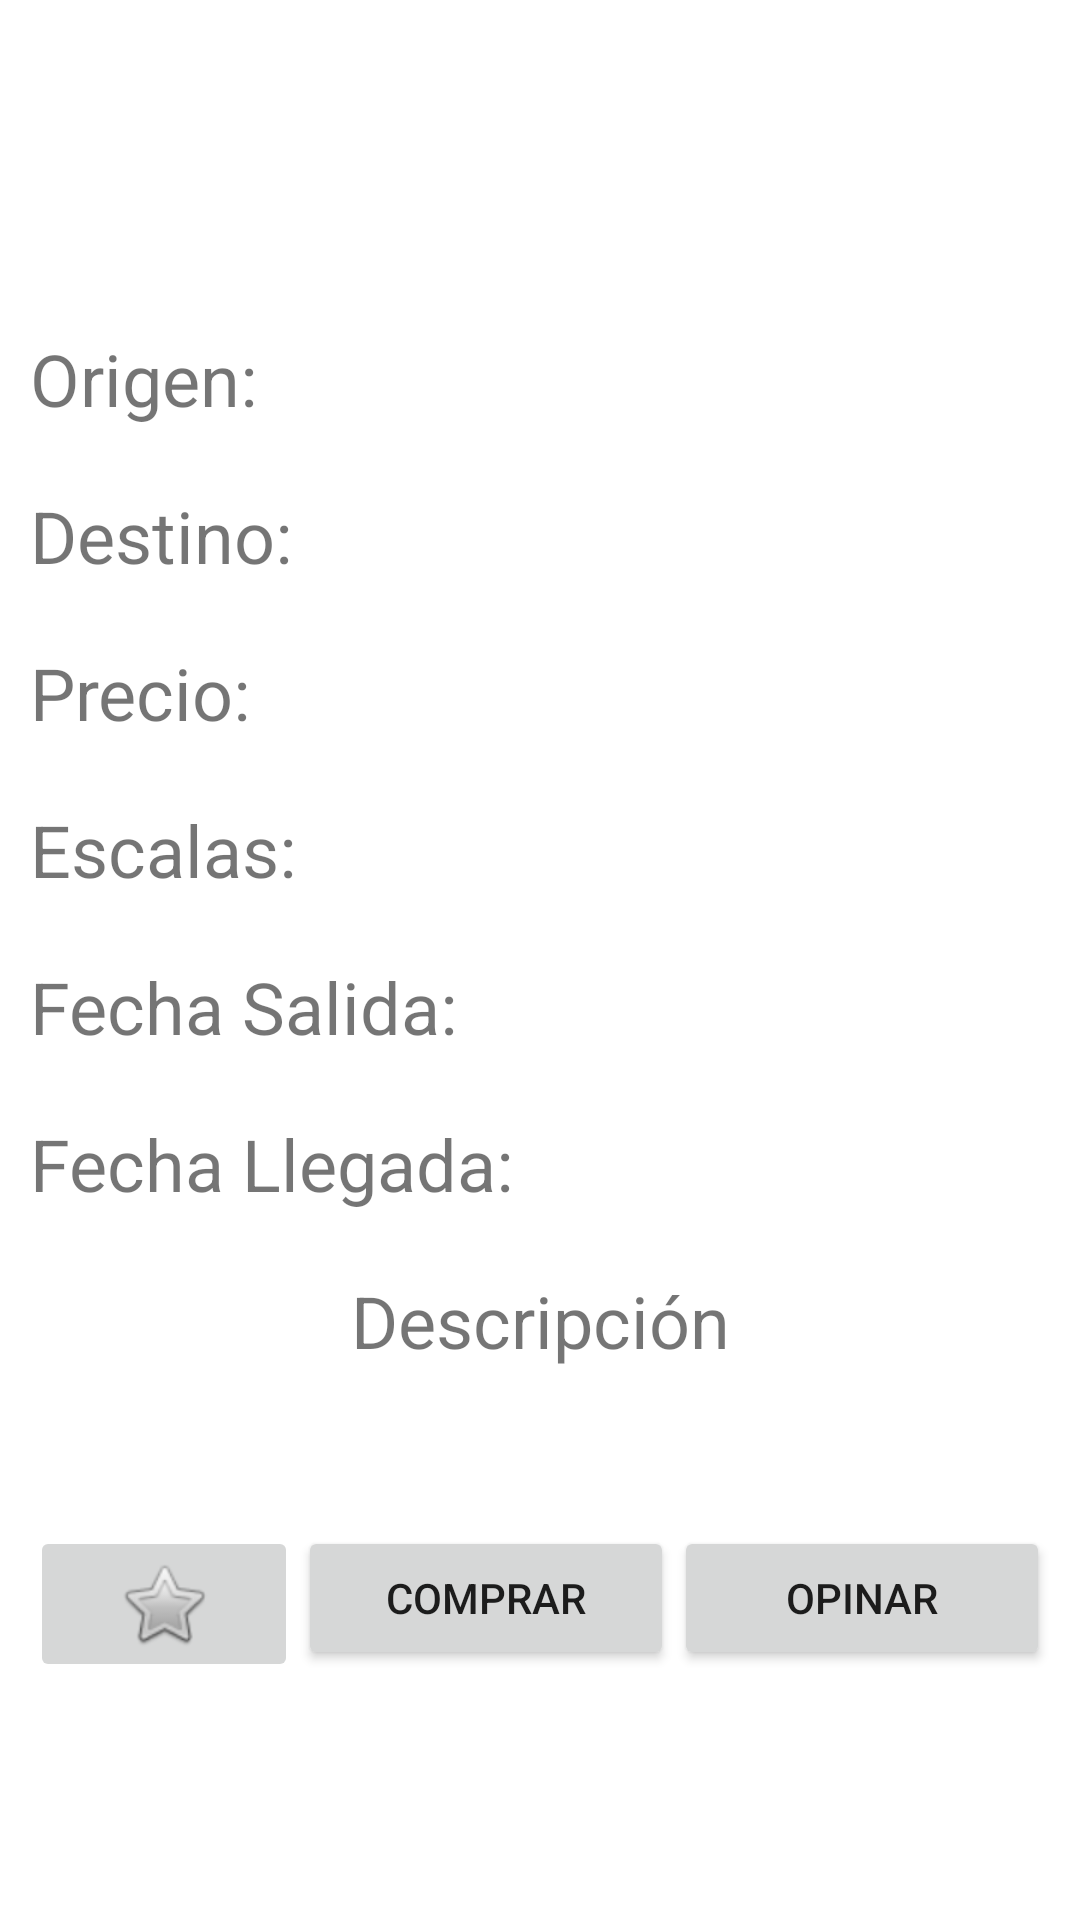

Locate icon controls on the screen. Image size 1080px×1920px, boxes as [x1,y1,x2,y2].
star: [42,1544,286,1664]
